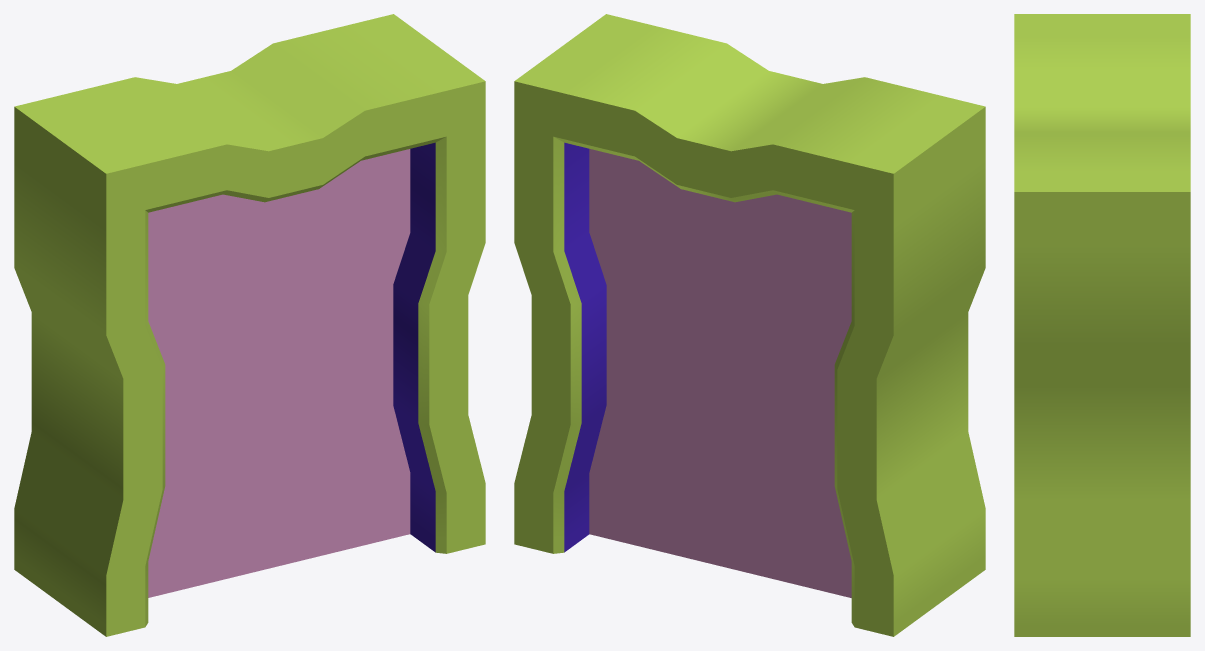
Rendered from normal_door_separate.FBX.
3 renders of one model, left to right at view 1: azimuth 30°, elevation 25°; view 2: azimuth 150°, elevation 25°; view 3: azimuth 270°, elevation 25°, orthographic. The views are drawn at different scales.
Visible parts, largest first — view 1: Box002, Object003, Object005, Object004; view 2: Box002, Object003, Object005, Object004; view 3: Box002.
Part boxes in pixels (x1,y1,x2,y2): Box002: (14, 14, 485, 636); Object003: (148, 149, 410, 369); Object005: (266, 287, 410, 568); Object004: (148, 353, 266, 597); Box002: (514, 14, 985, 636); Object003: (589, 149, 851, 370); Object005: (589, 287, 732, 569); Object004: (733, 353, 851, 597); Box002: (1014, 14, 1190, 636).
Size of the model in its own units: 16500 by 19242 by 6922.
